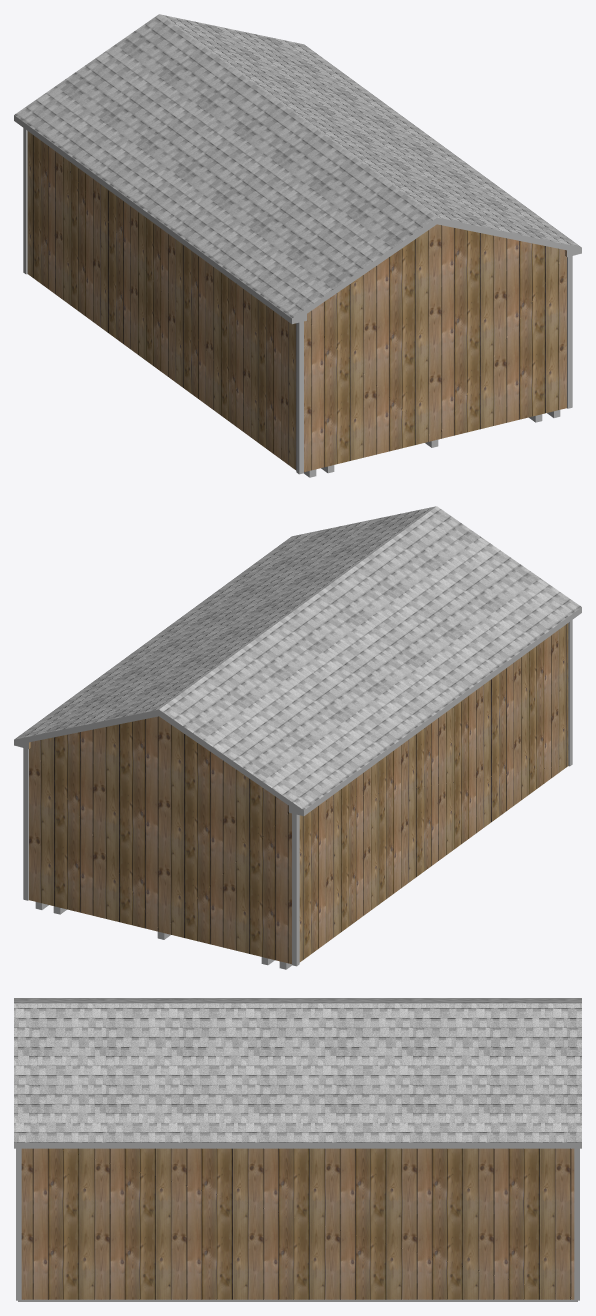
The model's file is Single Garage A-frame_14x24.obj.
3 views of the same model, one above another, from view 1: azimuth 30°, elevation 25°; view 2: azimuth 150°, elevation 25°; view 3: azimuth 270°, elevation 25° (orthographic). The views are drawn at different scales.
Parts seen in each view (by area): view 1: Shed, Roof, Sides, Trim; view 2: Shed, Roof, Sides, Trim; view 3: Shed, Roof, Sides, Trim, Floor.
Boxes of the visible parts, x1=… form: Shed: x1=27, y1=131, x2=566, y2=472; Roof: x1=14, y1=14, x2=581, y2=318; Sides: x1=14, y1=115, x2=581, y2=324; Trim: x1=23, y1=128, x2=572, y2=474; Shed: x1=29, y1=623, x2=568, y2=964; Roof: x1=14, y1=506, x2=581, y2=810; Sides: x1=14, y1=607, x2=581, y2=816; Trim: x1=23, y1=620, x2=572, y2=966; Shed: x1=21, y1=1148, x2=574, y2=1299; Roof: x1=14, y1=998, x2=581, y2=1142; Sides: x1=14, y1=1142, x2=581, y2=1148; Trim: x1=16, y1=1148, x2=579, y2=1300; Floor: x1=18, y1=1299, x2=577, y2=1301.
Size of the model in its own units: 4.47 by 3.4 by 7.42.
